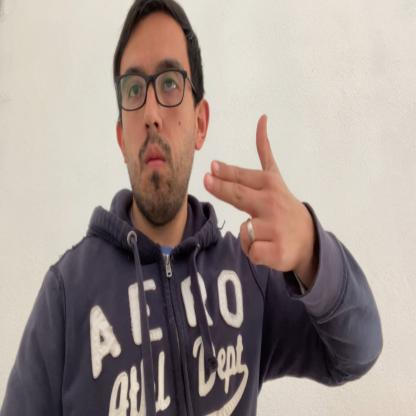H: (205, 115, 310, 273)
